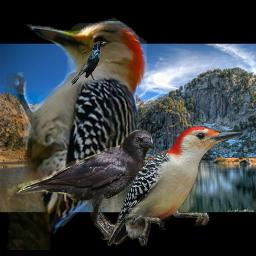Crow: (14, 130, 153, 240), (70, 41, 108, 85)
Woodpecker: (0, 10, 176, 250), (107, 126, 243, 246)
